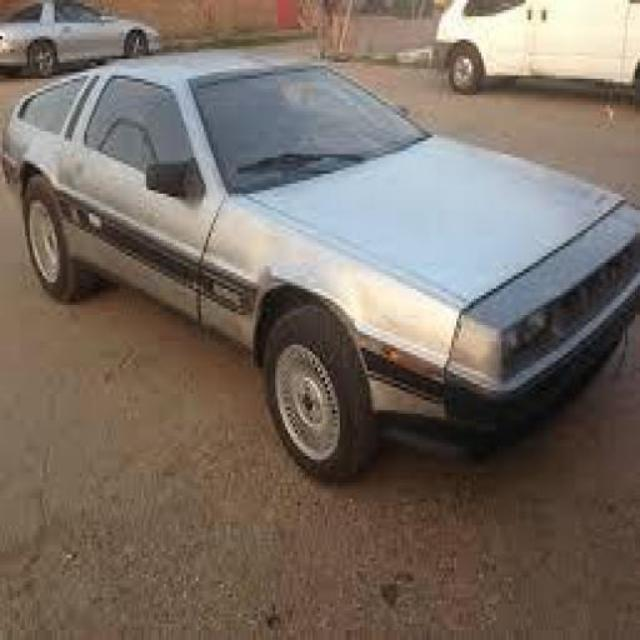rub: (267, 244, 372, 331)
